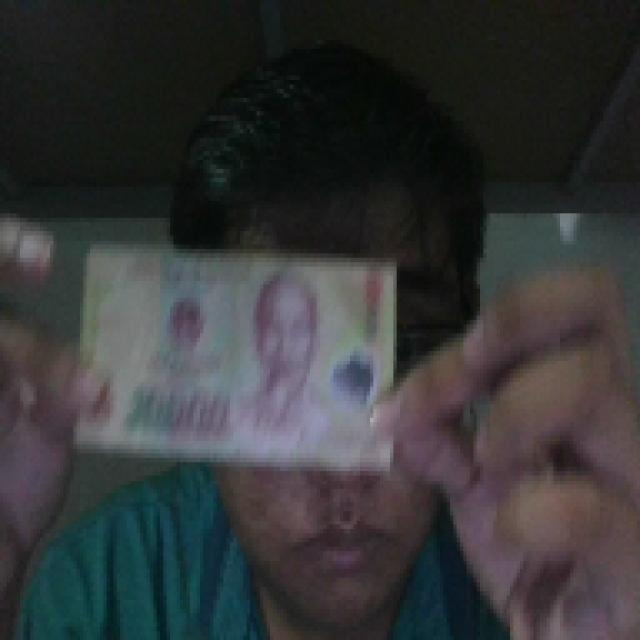10 000 VND: (70, 235, 403, 476)
